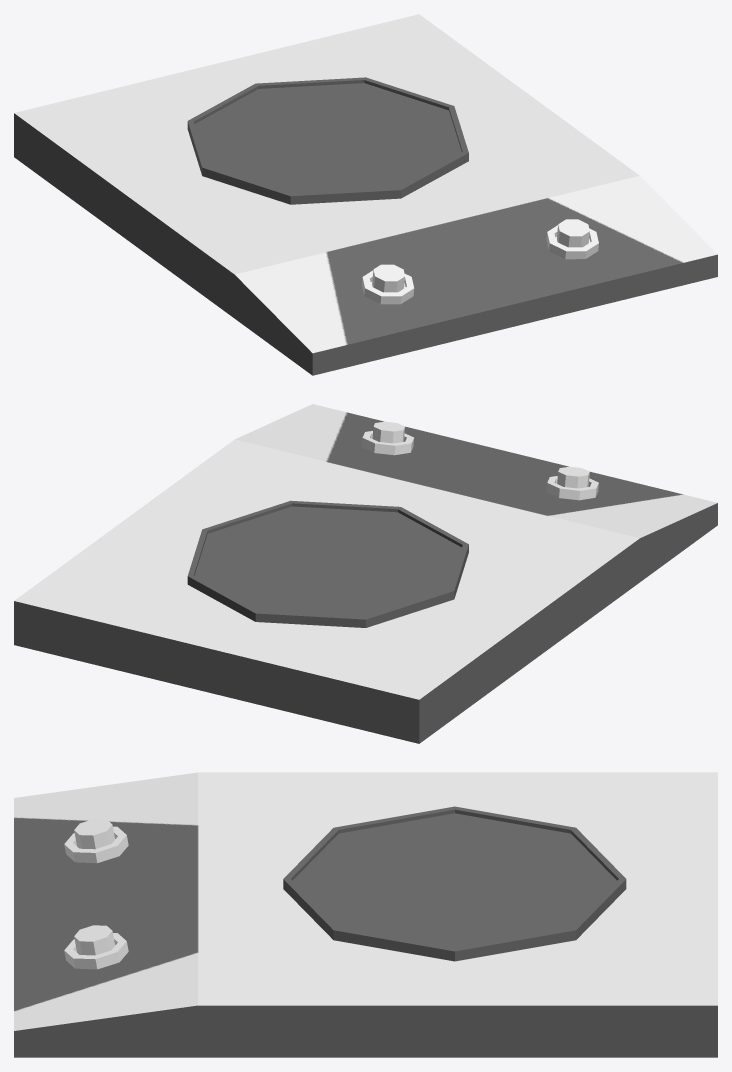
Rendered from Stirer Magnetik.fbx.
3 renders of one model, top to bottom at view 1: azimuth 30°, elevation 25°; view 2: azimuth 150°, elevation 25°; view 3: azimuth 270°, elevation 25°, orthographic. The views are drawn at different scales.
Visible parts, largest first — view 1: Cylinder.001; view 2: Cylinder.001; view 3: Cylinder.001.
Boxes of the visible parts, x1,y1,x2,y2 form: Cylinder.001: (14,14,717,375); Cylinder.001: (14,404,717,743); Cylinder.001: (14,772,717,1057).
Size of the model in its own units: 51.09 by 6.48 by 65.22.
Materials: 1 (1 with a texture image).
